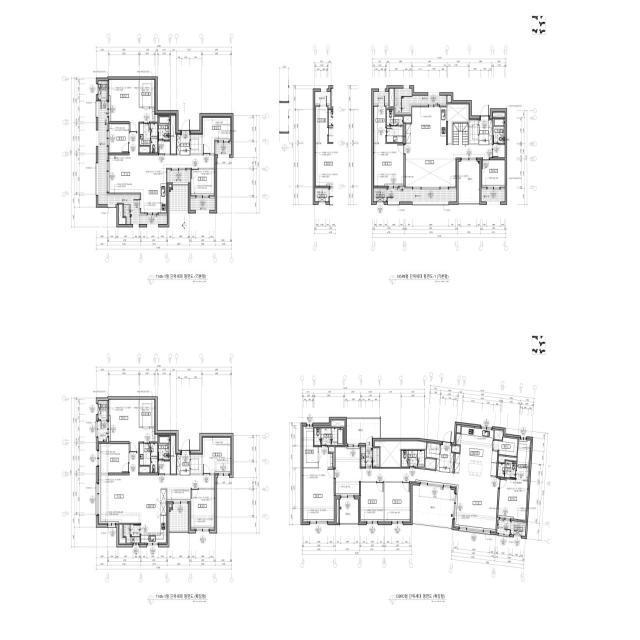space_balconi: (98, 101, 167, 224), (413, 485, 454, 527), (395, 89, 446, 112), (388, 189, 457, 202), (458, 162, 479, 202), (347, 419, 380, 443), (169, 186, 188, 211), (169, 506, 188, 531), (340, 499, 358, 523), (361, 447, 379, 467), (123, 525, 140, 543), (190, 198, 215, 210), (481, 190, 505, 202), (169, 171, 188, 183), (373, 92, 389, 106), (497, 520, 511, 535), (216, 143, 231, 155), (98, 421, 107, 441)
space_bedroom: (109, 80, 154, 132), (109, 400, 154, 452), (303, 447, 334, 521), (498, 478, 528, 520), (374, 144, 404, 186), (203, 117, 231, 153), (203, 437, 231, 473), (385, 483, 410, 521), (191, 490, 215, 529), (361, 483, 384, 521), (99, 444, 128, 473), (191, 170, 215, 196), (482, 160, 505, 187), (109, 124, 128, 153)
space_dressroom: (303, 427, 318, 467), (516, 439, 530, 481), (374, 107, 386, 144), (140, 400, 155, 427), (140, 80, 155, 107)
space_front: (436, 442, 454, 473), (479, 120, 492, 145), (177, 133, 190, 155), (177, 455, 190, 475)
space_kitchen: (455, 426, 498, 477), (406, 107, 446, 143), (141, 489, 166, 543), (141, 170, 166, 213)
space_living_room: (335, 447, 499, 531), (99, 453, 215, 523), (107, 132, 215, 194), (405, 144, 492, 187)
space_other: (375, 441, 426, 467), (447, 104, 469, 143), (494, 437, 518, 456), (453, 123, 469, 145), (167, 488, 190, 501), (511, 521, 526, 536), (426, 443, 440, 459), (469, 120, 478, 144), (191, 134, 202, 153), (191, 455, 202, 473), (171, 116, 176, 154), (171, 436, 176, 474), (493, 145, 505, 158), (158, 141, 170, 154), (158, 461, 170, 474), (499, 456, 517, 463), (425, 458, 436, 469), (119, 205, 125, 224), (119, 525, 125, 544), (329, 447, 334, 467), (494, 430, 503, 440), (332, 421, 344, 427), (390, 89, 394, 106), (139, 147, 149, 153), (452, 446, 460, 453), (404, 116, 411, 123), (337, 499, 339, 523), (493, 113, 505, 117), (457, 426, 461, 433), (447, 96, 451, 102), (155, 114, 157, 122), (155, 434, 157, 442), (169, 504, 171, 507), (169, 185, 171, 187)
space_outdoor_room: (373, 188, 387, 202), (98, 81, 107, 100), (98, 401, 107, 420)
space_toilet: (139, 443, 157, 473), (387, 110, 403, 142), (314, 428, 343, 445), (140, 124, 157, 153), (402, 451, 424, 467), (498, 461, 516, 478), (493, 119, 505, 143), (158, 116, 170, 140), (158, 436, 170, 460)
